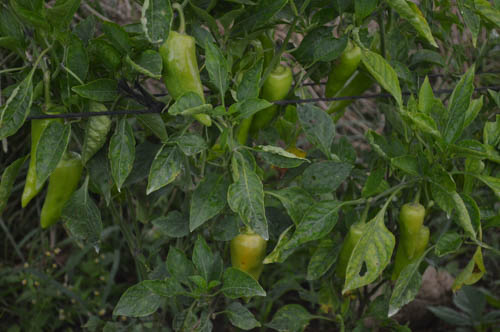ChiliPepper: (161, 38, 208, 122), (20, 117, 60, 209), (41, 156, 92, 228), (397, 228, 432, 283), (223, 230, 263, 276), (259, 71, 289, 130), (338, 223, 367, 283), (335, 75, 374, 115), (322, 49, 356, 92), (398, 203, 423, 257)
